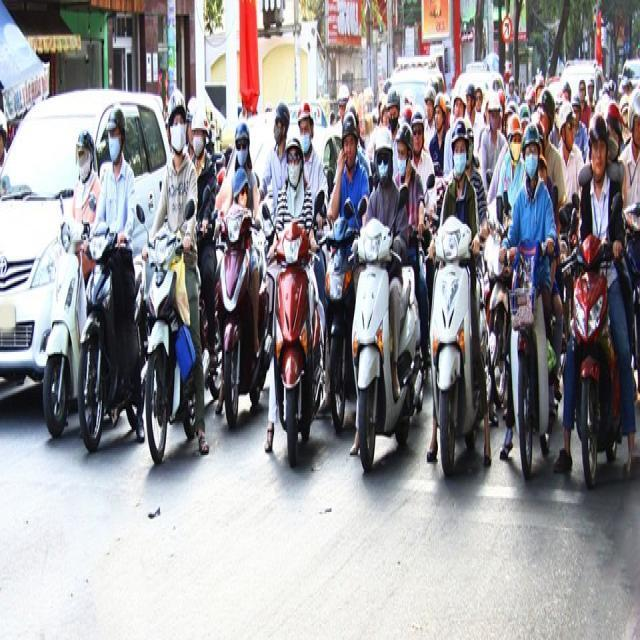car: (0, 81, 183, 429)
motorcycle: (551, 67, 639, 536), (338, 178, 425, 492), (259, 197, 333, 485), (197, 184, 276, 448), (422, 218, 492, 493), (491, 225, 557, 496), (138, 219, 212, 460), (36, 203, 92, 444), (76, 218, 132, 446)
